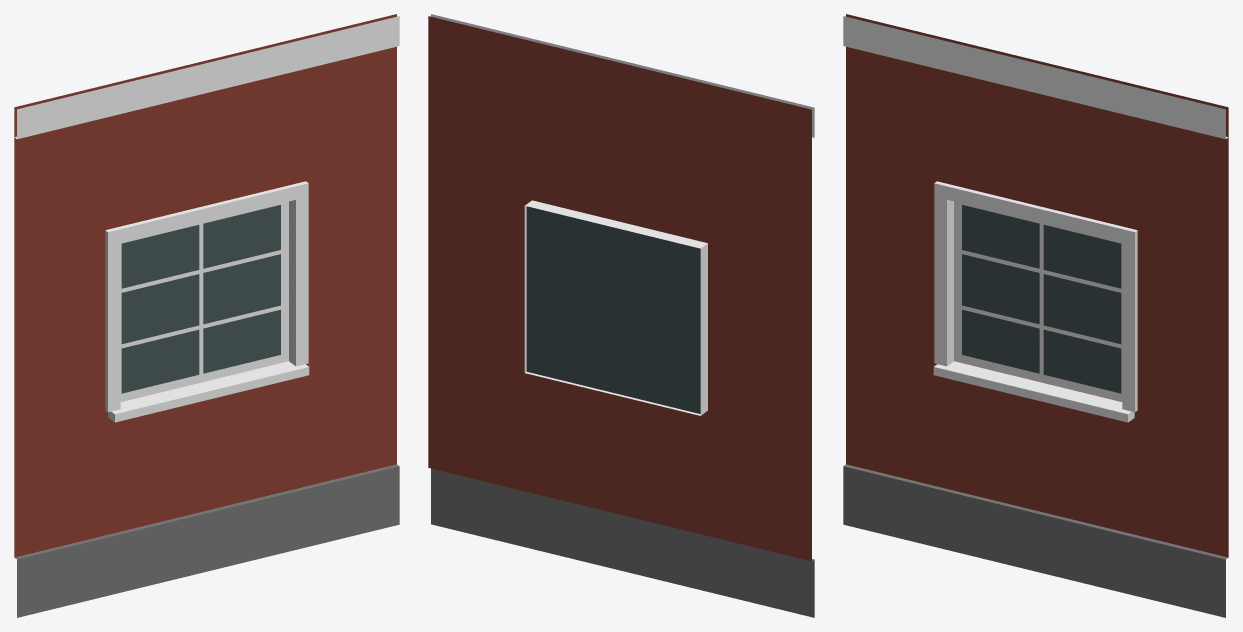
3 renders of one model, left to right at view 1: azimuth 30°, elevation 25°; view 2: azimuth 150°, elevation 25°; view 3: azimuth 330°, elevation 25°, orthographic.
Visible parts, largest first — view 1: a2015/600/base-w1; view 2: a2015/600/base-w1; view 3: a2015/600/base-w1.
Boxes of the visible parts, bbox=[...] form: a2015/600/base-w1: bbox=[14, 14, 399, 617]; a2015/600/base-w1: bbox=[428, 14, 814, 617]; a2015/600/base-w1: bbox=[843, 14, 1228, 617].
Bounding box in the file's own units: 2.4 × 3.05 × 0.15.
